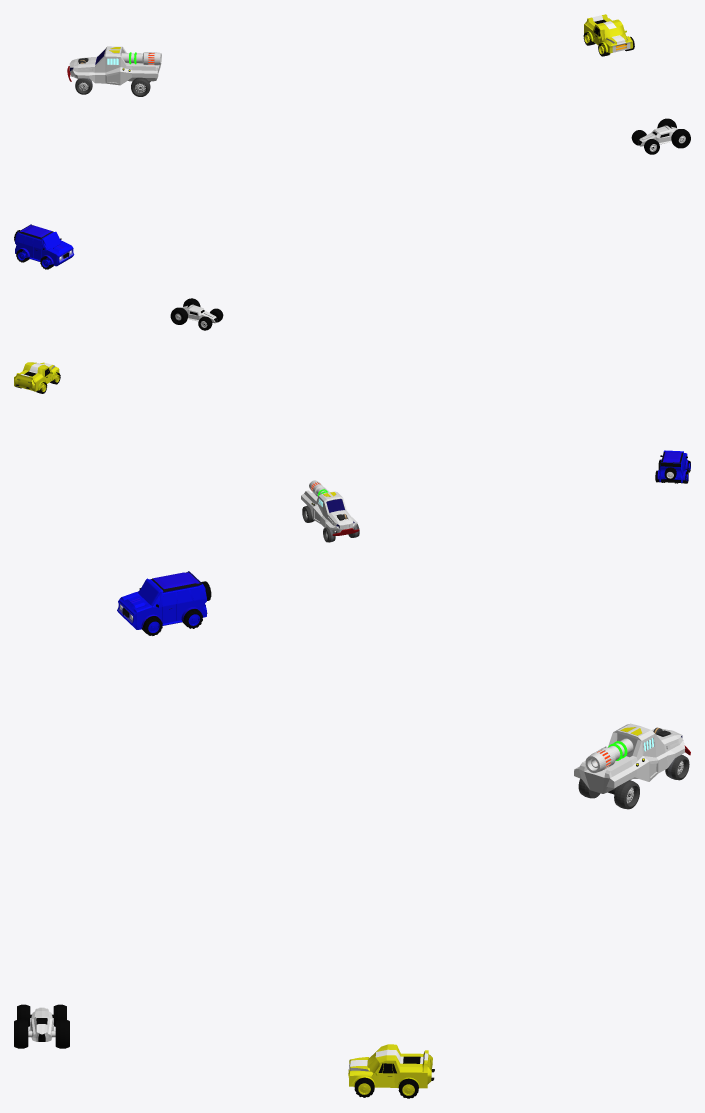
File: cars.fbx
The picture shows the model from 3 angles, top to bottom: view 1: azimuth 30°, elevation 25°; view 2: azimuth 150°, elevation 25°; view 3: azimuth 270°, elevation 25°; orthographic projection. The views are drawn at different scales.
Visible parts, largest first — view 1: car6, car 3, car1, car4; view 2: car6, car1, car 3, car4; view 3: car6, car 3, car1, car4.
Part boxes in pixels (bbox=[...]): car6: bbox=[67, 46, 161, 96]; car 3: bbox=[14, 224, 74, 269]; car1: bbox=[583, 14, 634, 56]; car4: bbox=[631, 118, 690, 154]; car6: bbox=[301, 480, 359, 542]; car1: bbox=[14, 362, 60, 393]; car 3: bbox=[655, 450, 690, 483]; car4: bbox=[170, 298, 223, 330]; car6: bbox=[574, 723, 690, 809]; car 3: bbox=[117, 571, 211, 635]; car1: bbox=[348, 1044, 434, 1098]; car4: bbox=[14, 1004, 69, 1048].
Size of the model in its own units: 2705 by 151 by 1564.
